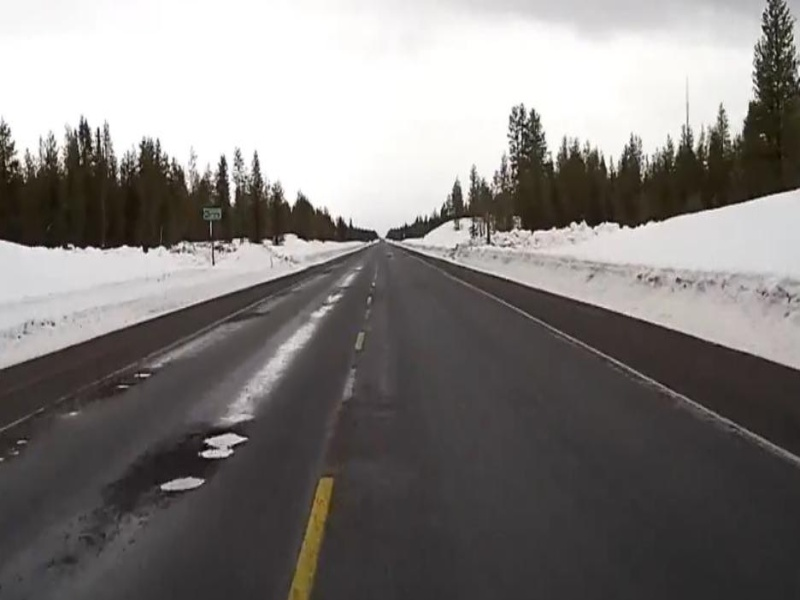pothole: (155, 471, 208, 499), (202, 433, 250, 449), (190, 449, 233, 460)
